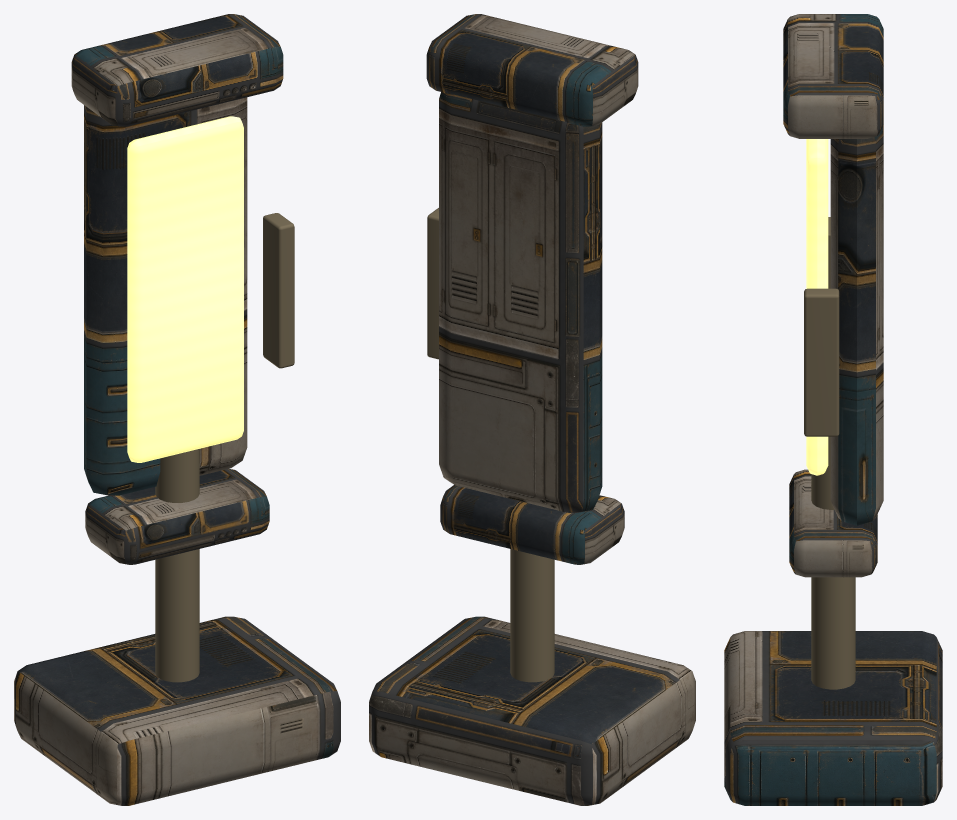
File: hp_light_residential_lamp_warm.glb
3 views of the same model, side by side, from view 1: azimuth 30°, elevation 25°; view 2: azimuth 150°, elevation 25°; view 3: azimuth 270°, elevation 25° (orthographic).
Parts seen in each view (by area): view 1: weighted_floor_base, front_glowing_lens, lamp_back_housing, top_cap_dark, bottom_cap_dark, vertical_service_spine, small_side_handle; view 2: lamp_back_housing, weighted_floor_base, top_cap_dark, bottom_cap_dark, vertical_service_spine, small_side_handle; view 3: weighted_floor_base, lamp_back_housing, top_cap_dark, bottom_cap_dark, vertical_service_spine, small_side_handle, front_glowing_lens.
Part boxes in pixels (x1,y1,x2,y2): weighted_floor_base: [14, 616, 340, 805]; front_glowing_lens: [127, 116, 243, 462]; lamp_back_housing: [84, 97, 247, 495]; top_cap_dark: [71, 14, 283, 126]; bottom_cap_dark: [85, 469, 269, 564]; vertical_service_spine: [155, 449, 199, 682]; small_side_handle: [263, 213, 294, 368]; lamp_back_housing: [439, 92, 602, 512]; weighted_floor_base: [369, 616, 695, 805]; top_cap_dark: [426, 14, 638, 126]; bottom_cap_dark: [440, 485, 624, 564]; vertical_service_spine: [510, 501, 554, 682]; small_side_handle: [427, 208, 438, 359]; weighted_floor_base: [724, 631, 942, 805]; lamp_back_housing: [830, 124, 883, 525]; top_cap_dark: [783, 14, 883, 138]; bottom_cap_dark: [789, 469, 877, 577]; vertical_service_spine: [811, 217, 855, 689]; small_side_handle: [804, 288, 839, 436]; front_glowing_lens: [806, 139, 828, 475].
Size of the model in its own units: 0.5153 by 1.48 by 0.4145.
Materials: 4 (3 with a texture image).
